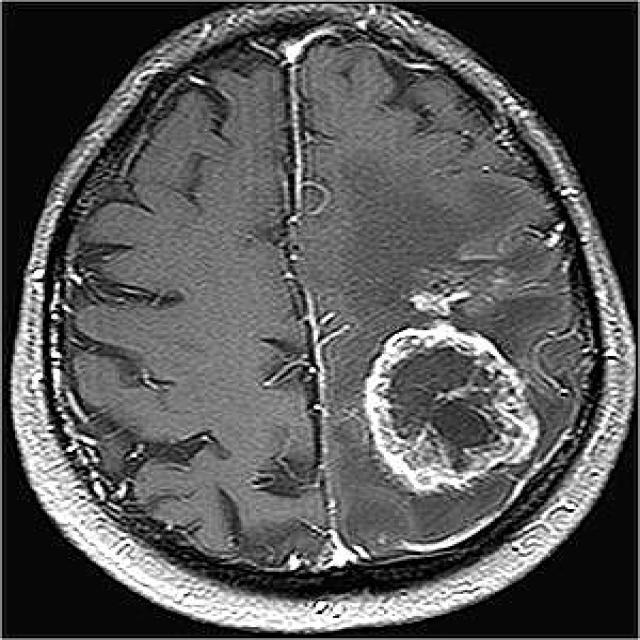Tumor-Cell: (352, 265, 546, 490)
